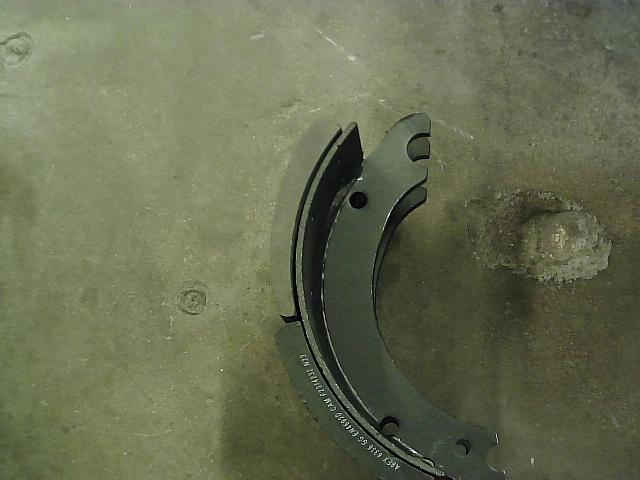brake-shoes: (267, 112, 508, 480)
